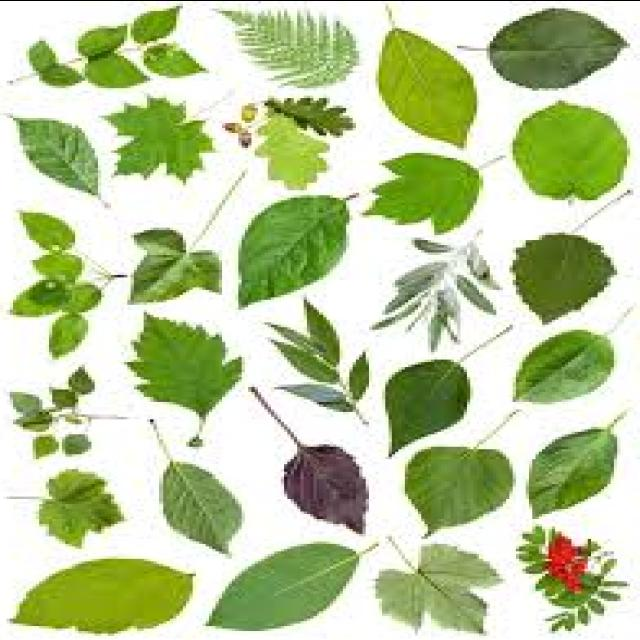leaves: (29, 8, 202, 86), (211, 541, 363, 629), (377, 238, 499, 345), (15, 559, 193, 632), (13, 212, 101, 355), (129, 314, 242, 420), (226, 98, 355, 188), (482, 9, 627, 89), (511, 101, 629, 199), (238, 196, 348, 300), (379, 28, 478, 143), (379, 544, 499, 631), (274, 304, 368, 412), (223, 12, 358, 85), (367, 152, 481, 231), (513, 232, 614, 321), (284, 426, 368, 531), (406, 446, 509, 531), (108, 98, 212, 179), (162, 455, 243, 551), (529, 428, 617, 516), (385, 362, 471, 451), (13, 368, 94, 456), (516, 330, 612, 402), (131, 228, 220, 301), (41, 470, 122, 545), (20, 118, 99, 192)
